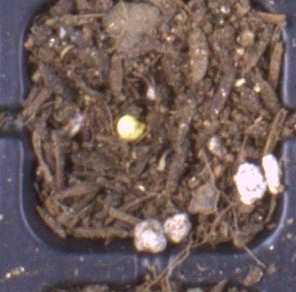chilli seed: (117, 114, 146, 139)
